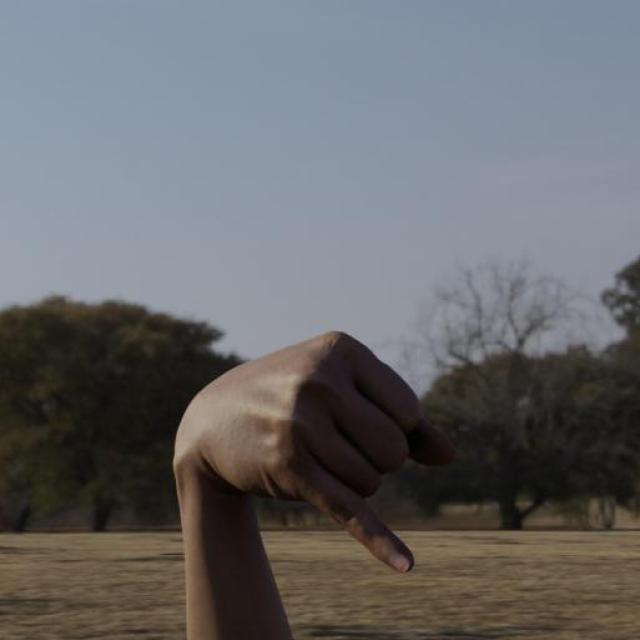J: (170, 324, 460, 580)
